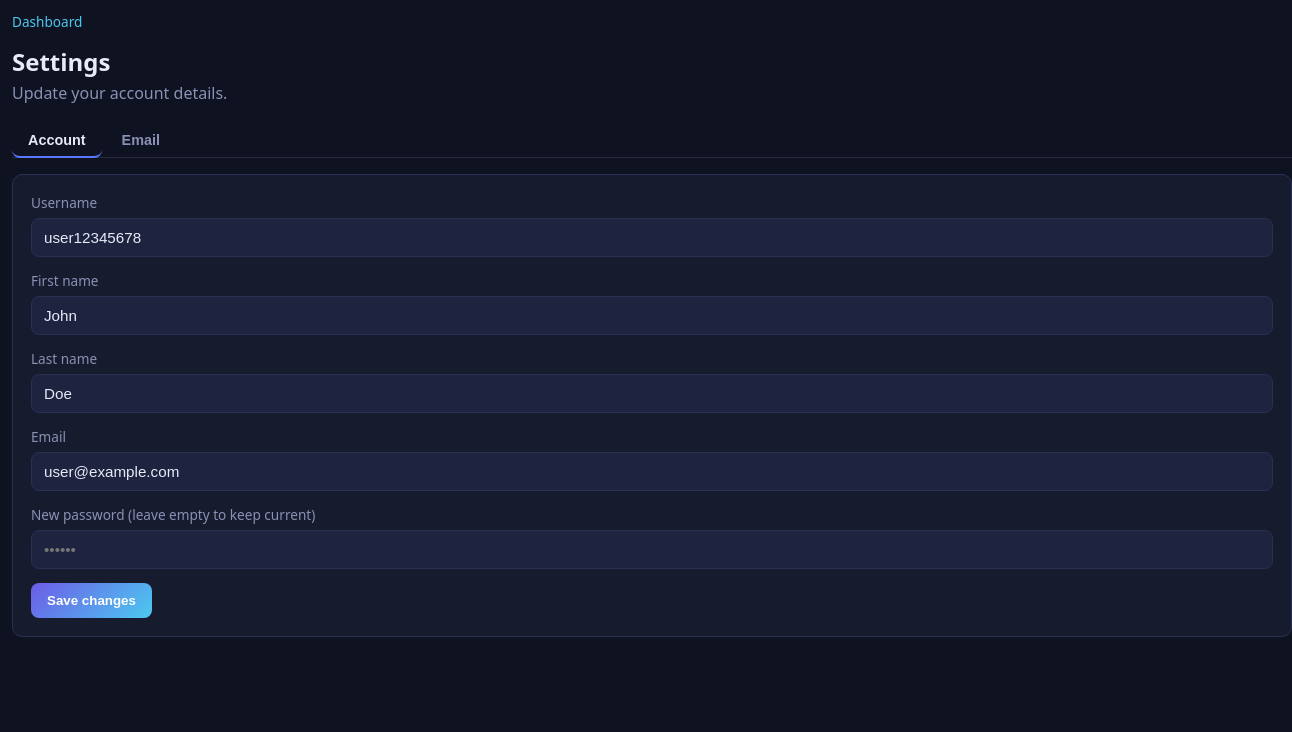
Scenario: Settings › saves changes via updateUser
Replace the text in the field labelled "First name" with "Jane" at (652, 316), box [31, 296, 1273, 335]
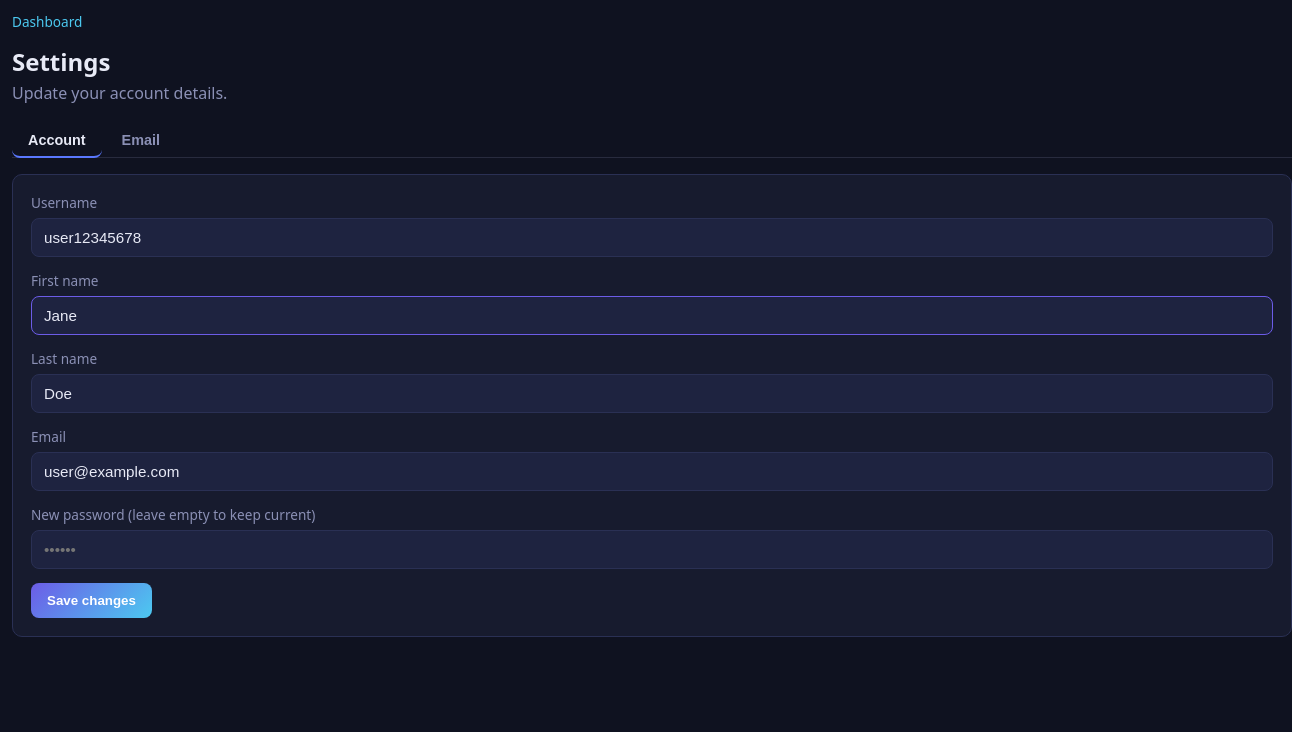
Click the button "Save changes".
click(91, 600)  # box [31, 583, 152, 618]
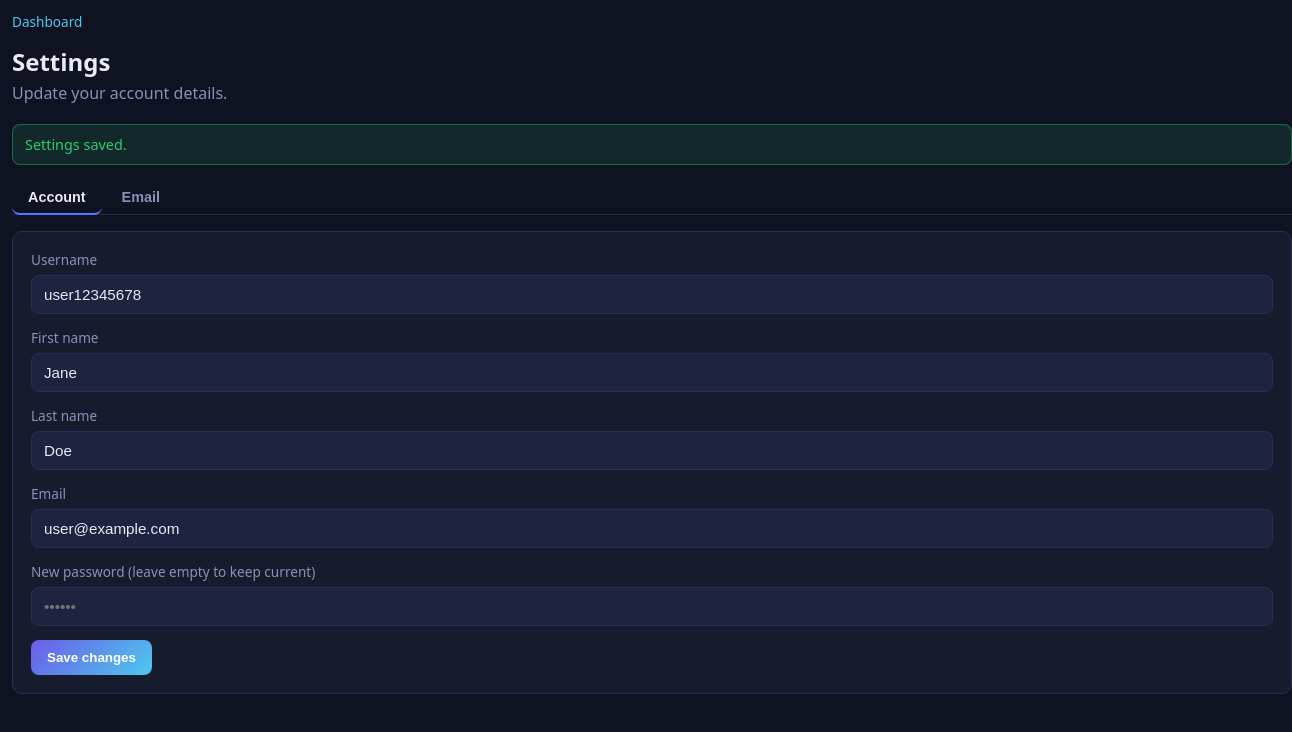
Expected: the text "Settings saved." is shown, [12, 124, 1291, 165]
